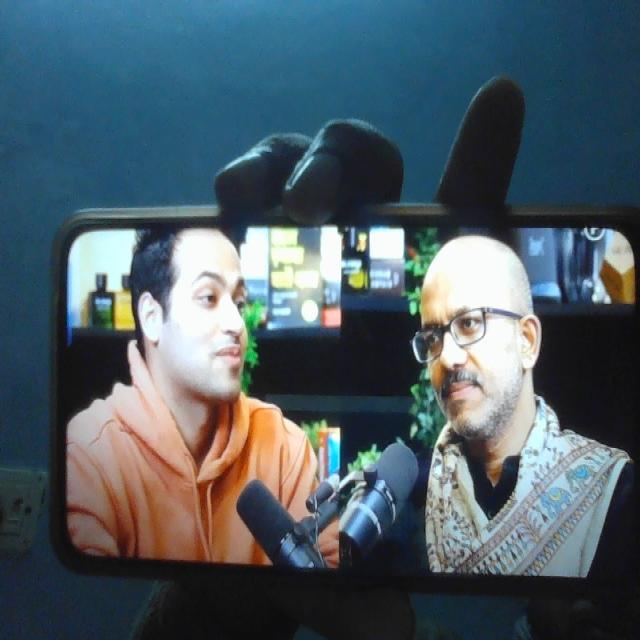fake: (410, 209, 540, 456), (140, 189, 256, 408)
